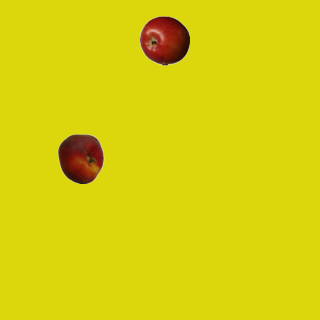Apple Braeburn: (139, 15, 189, 65)
Nectarine Flat: (55, 133, 105, 183)
